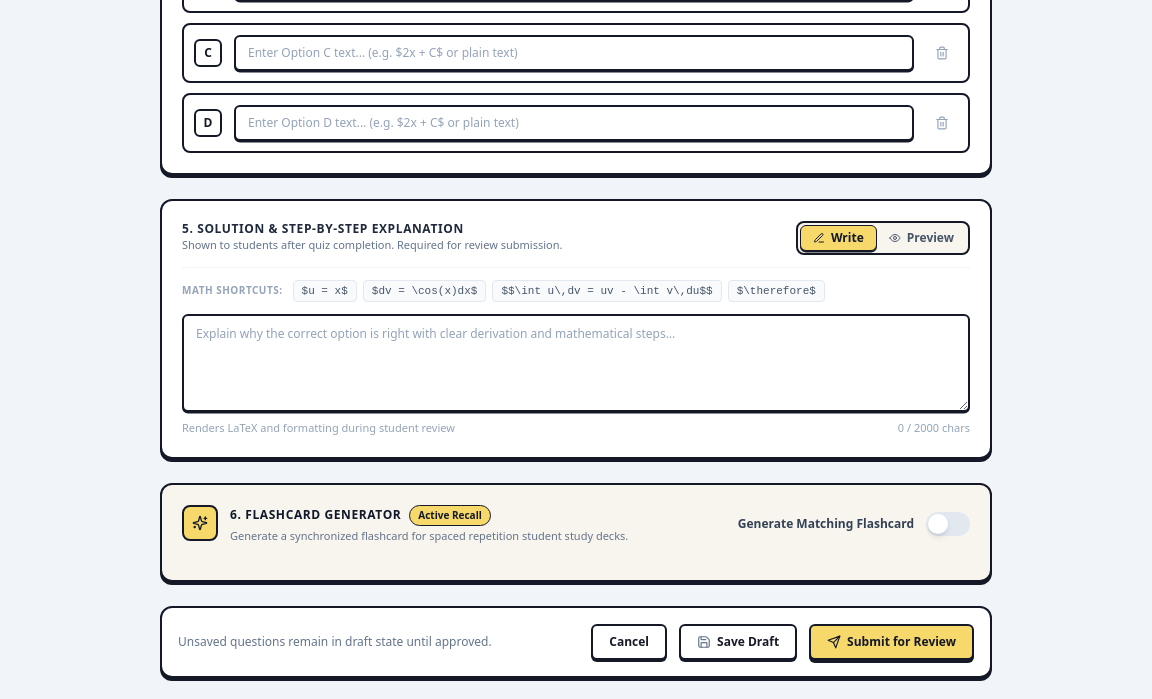
CreateQuestionForm Component › toggles Flashcard Generator switch and reveals dual-sided preview
(page scrolled)
Note: Click switch to enable flashcard generation
Click the switch at (948, 524), box [926,512,970,536]
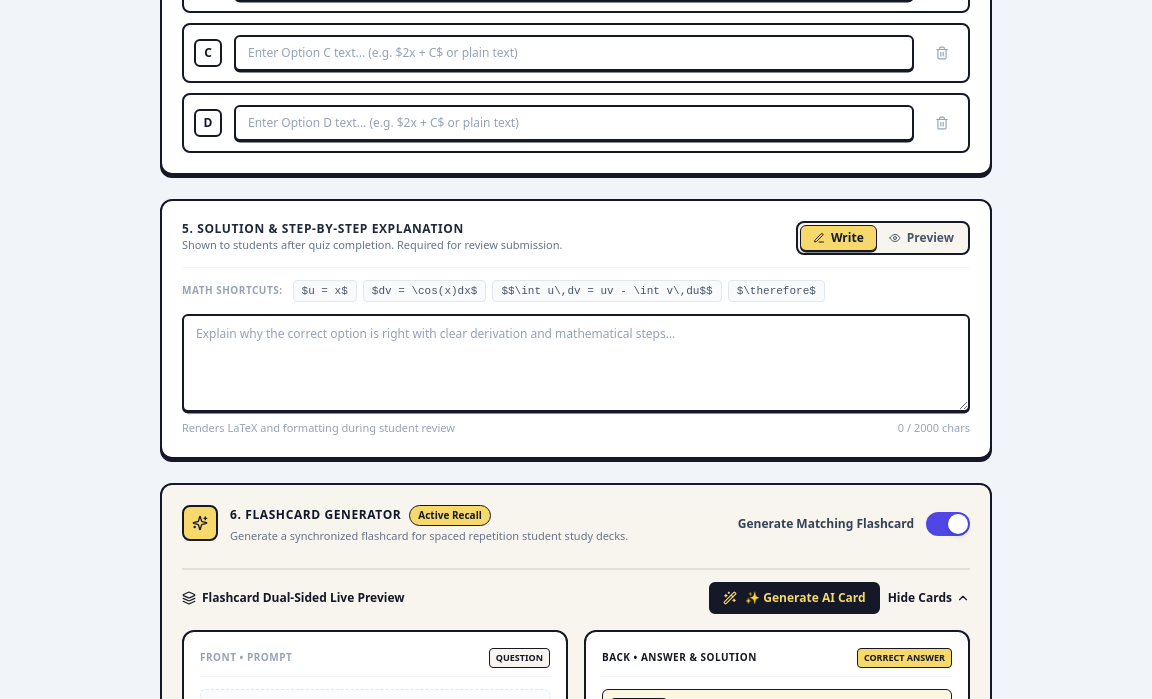
Result: the text "Flashcard Dual-Sided Live Preview" is shown at [202,590,405,606]
Result: the text "Front • Prompt" is shown at [200,650,292,665]
Result: the text "Back • Answer & Solution" is shown at [602,650,757,665]
